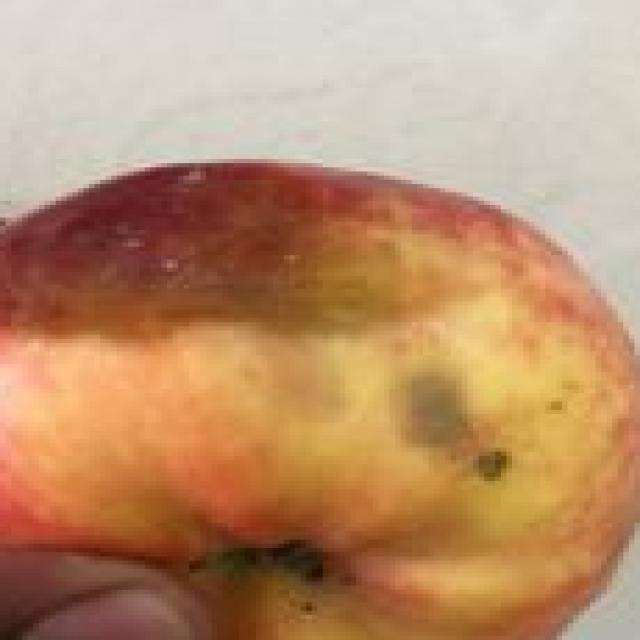Bad_Apple 0-1 day: (0, 165, 640, 640)
